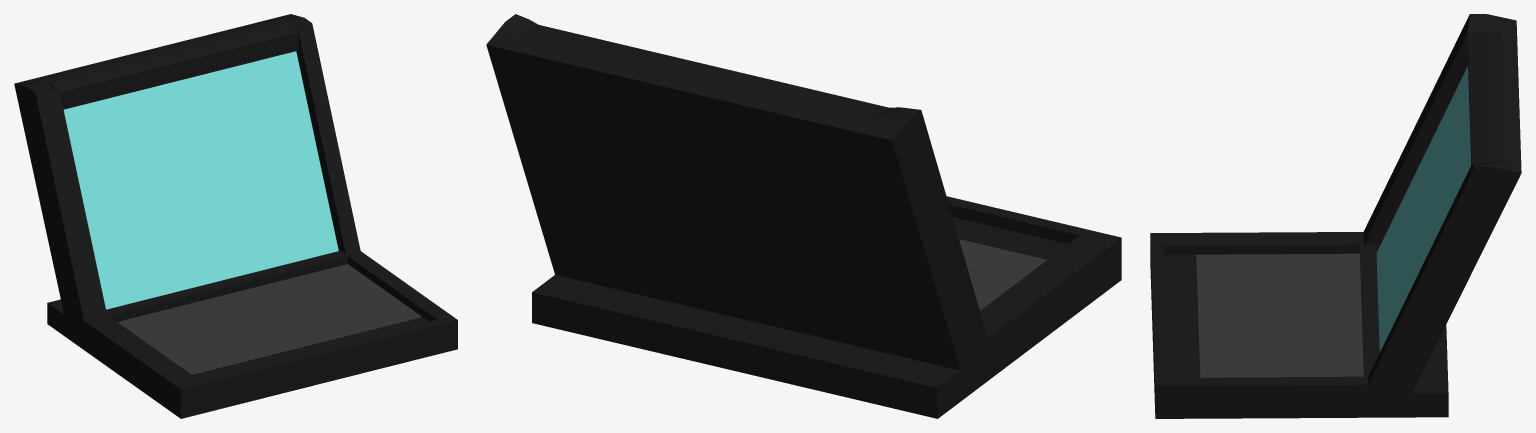
Rendered from Laptop.fbx.
The picture shows the model from 3 angles, left to right: view 1: azimuth 30°, elevation 25°; view 2: azimuth 150°, elevation 25°; view 3: azimuth 270°, elevation 25°; orthographic projection. The views are drawn at different scales.
Visible parts, largest first — view 1: Cube.016; view 2: Cube.016; view 3: Cube.016.
Part boxes in pixels (box(x1,y1,x2,y2)): Cube.016: box(14, 14, 457, 418); Cube.016: box(486, 14, 1121, 418); Cube.016: box(1150, 14, 1521, 418).
Size of the model in its own units: 158 by 119 by 160.
